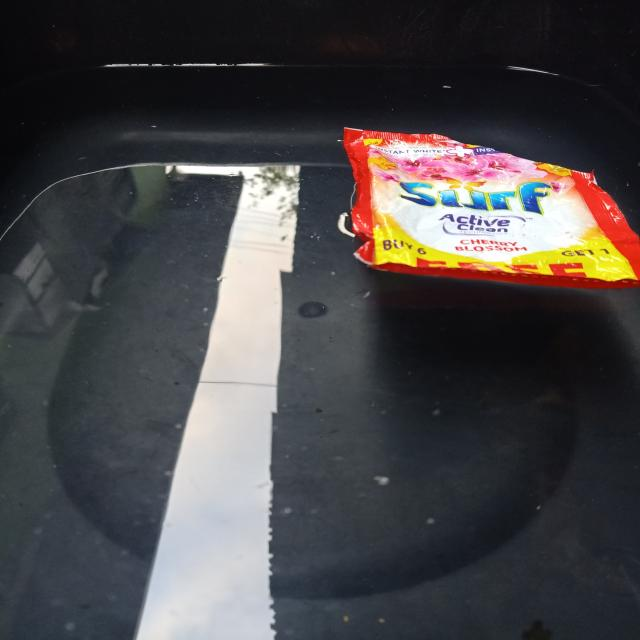Plastic Wrapper: (345, 128, 640, 287)
